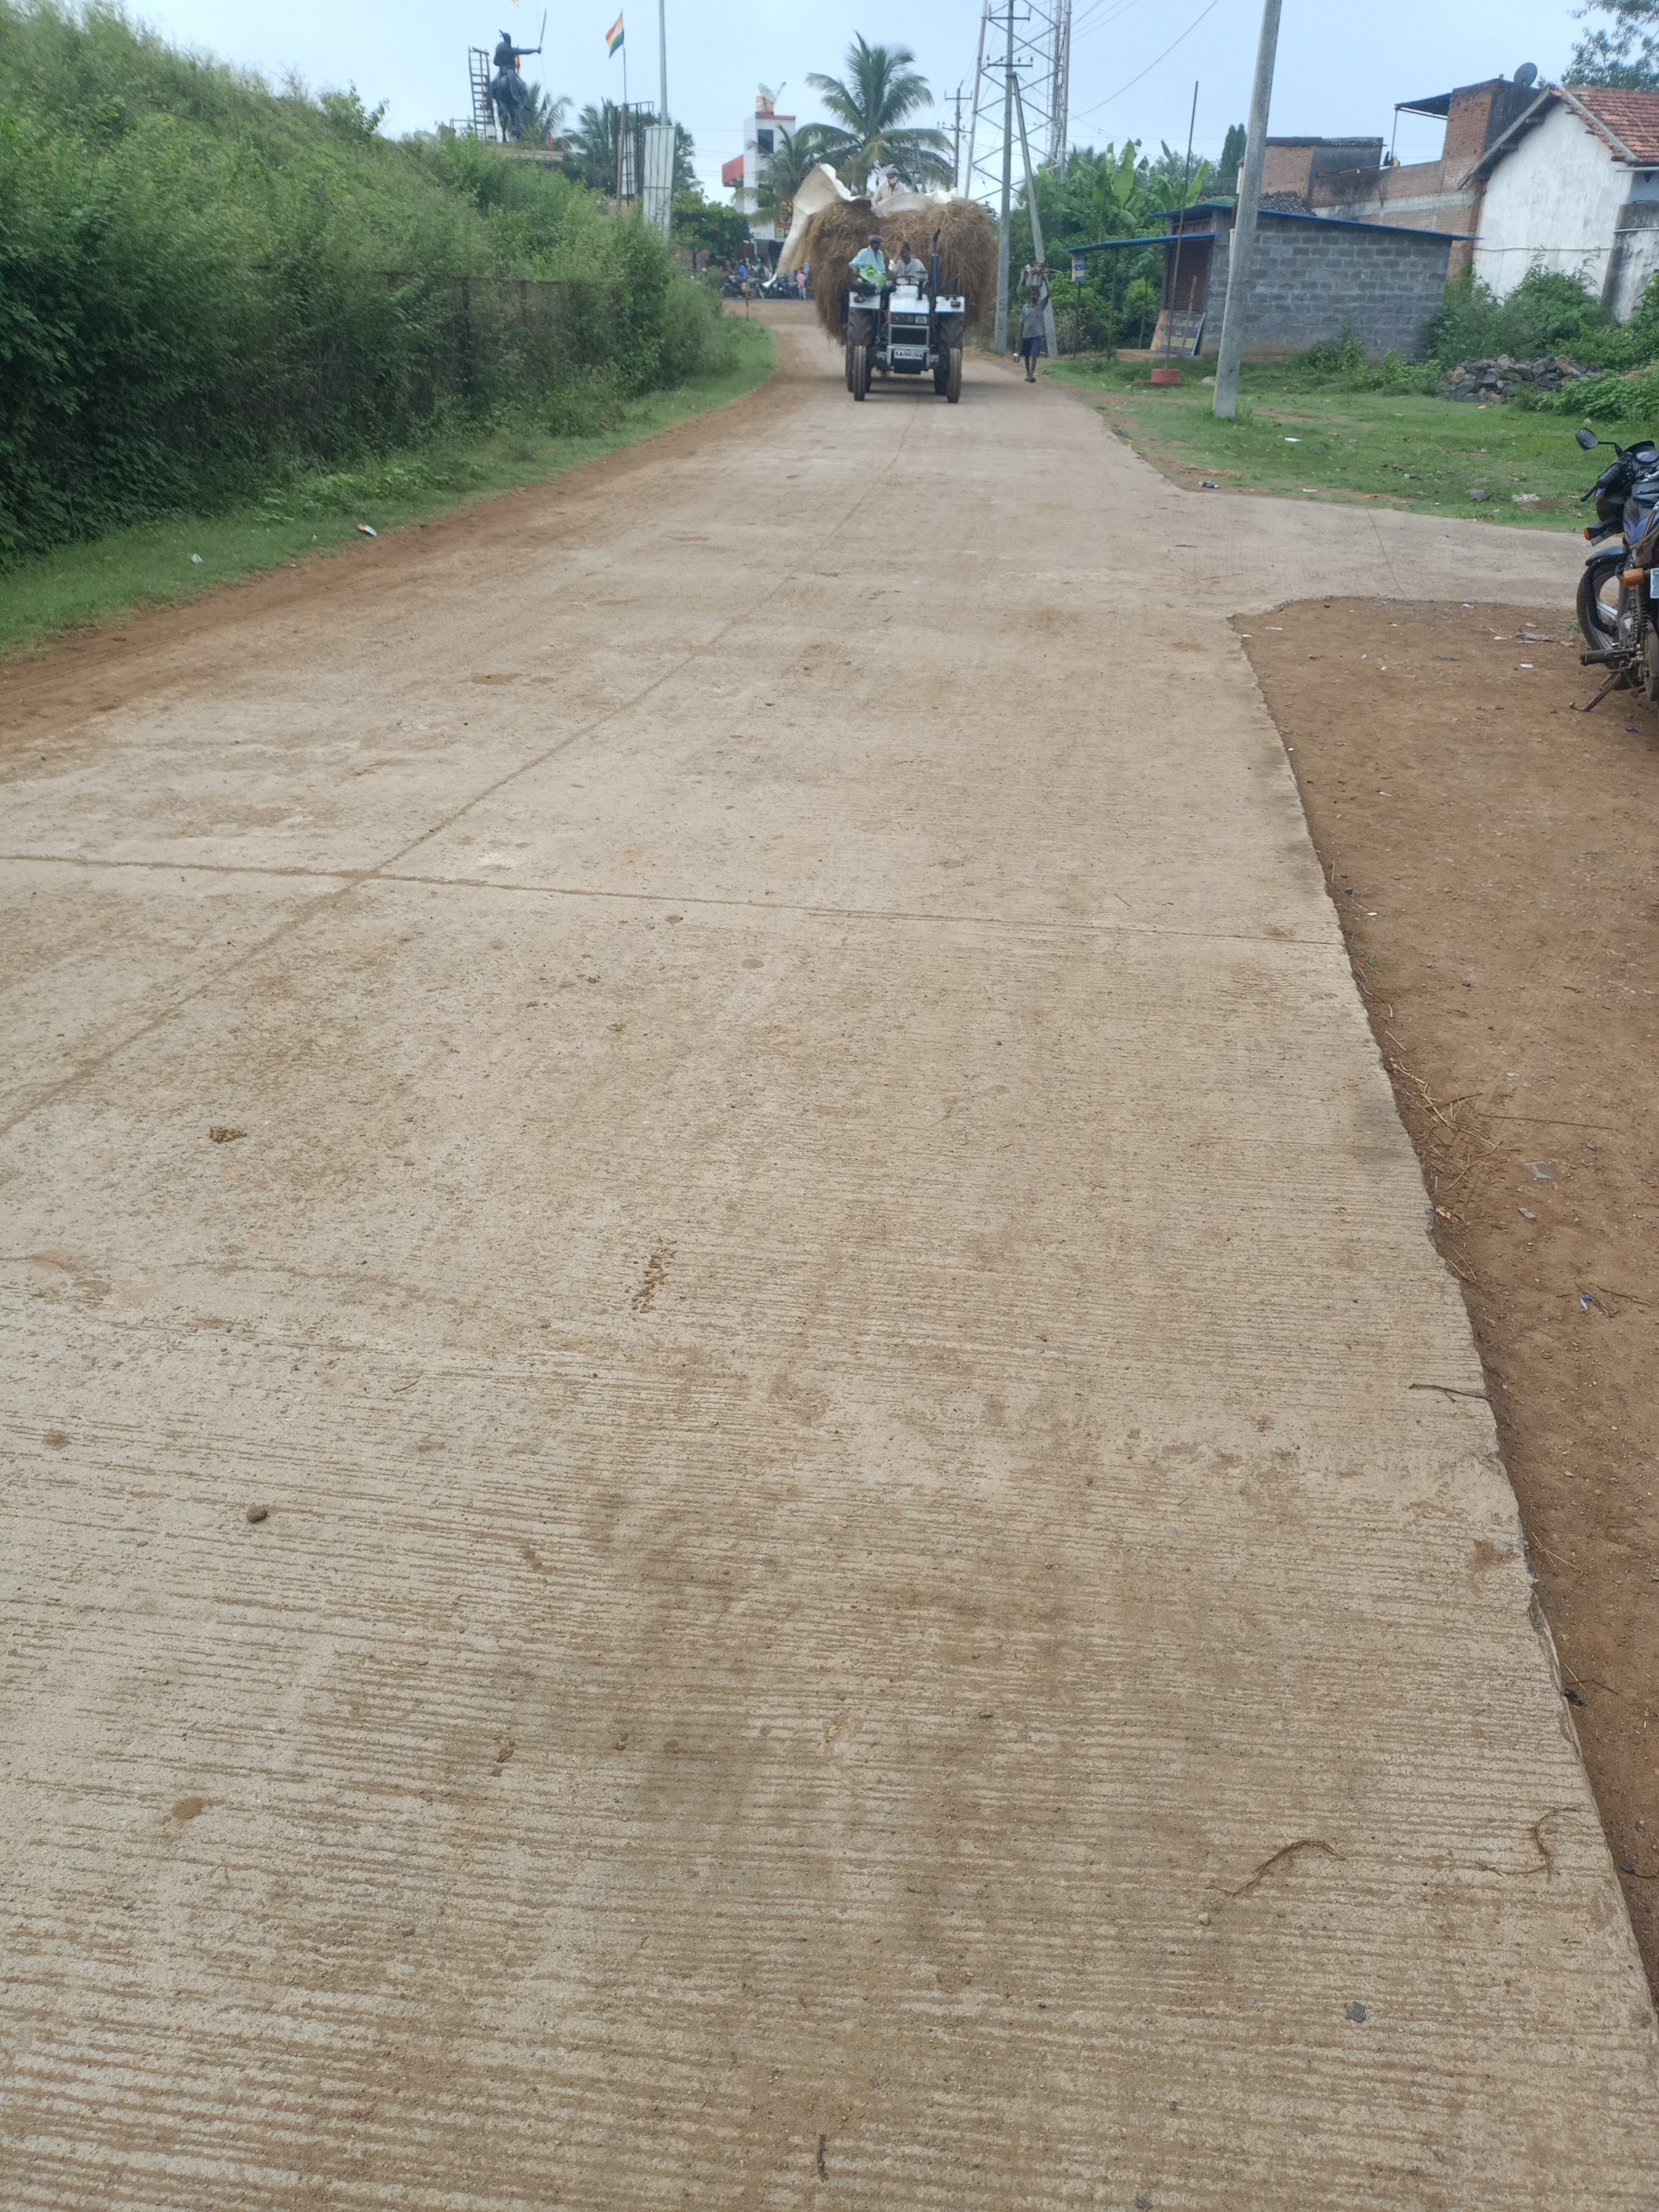truck: (843, 226, 971, 404)
